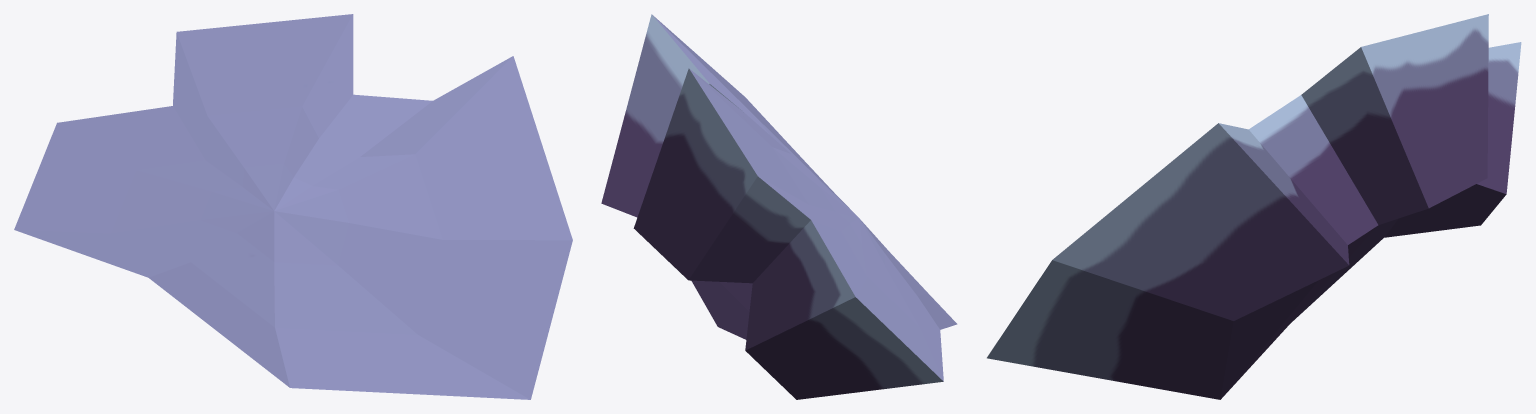
File: Isla pequeña 3.fbx
The picture shows the model from 3 angles, left to right: view 1: azimuth 30°, elevation 25°; view 2: azimuth 150°, elevation 25°; view 3: azimuth 270°, elevation 25°; orthographic projection. The views are drawn at different scales.
Parts seen in each view (by area): view 1: Isla pequeña 3; view 2: Isla pequeña 3; view 3: Isla pequeña 3.
Boxes of the visible parts, x1,y1,x2,y2 form: Isla pequeña 3: (14, 14, 572, 399); Isla pequeña 3: (601, 14, 957, 399); Isla pequeña 3: (987, 14, 1521, 399).
Size of the model in its own units: 1208 by 881 by 1280.
